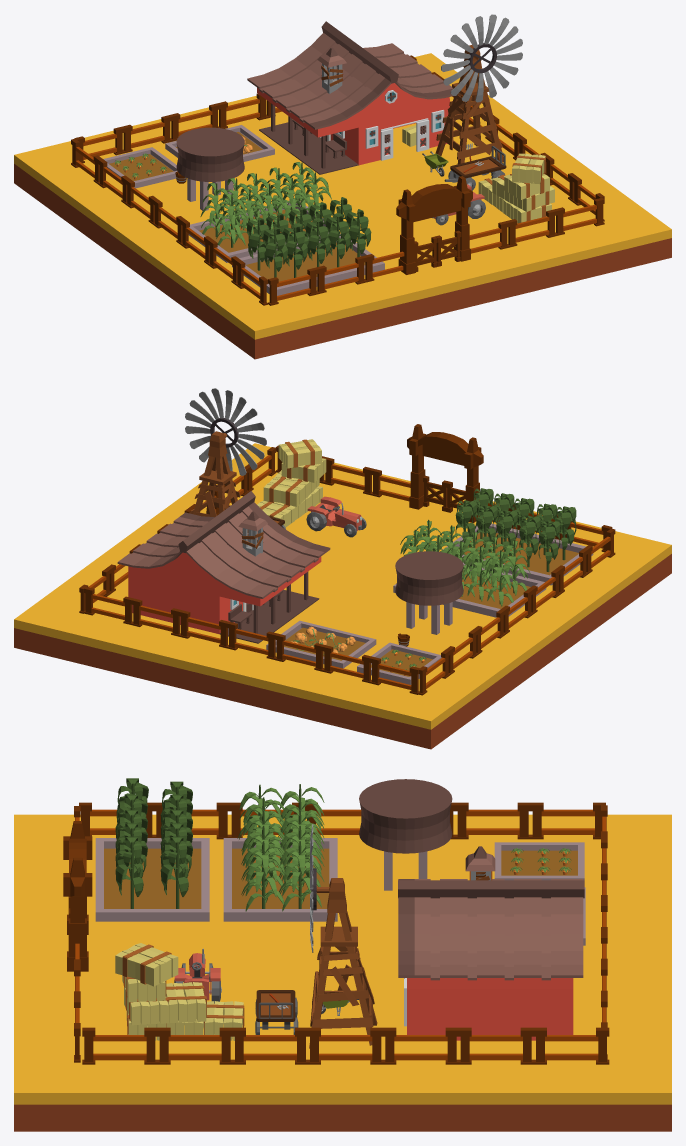
The model's file is uploads_files_2156679_farm.gltf.
3 renders of one model, top to bottom at view 1: azimuth 30°, elevation 25°; view 2: azimuth 150°, elevation 25°; view 3: azimuth 270°, elevation 25°, orthographic. The views are drawn at different scales.
Visible parts, largest first — view 1: Plane.001, farm_house, Cube.014, windmill, Cube.026, object2, Cube.039, Cube, trailer, object3, Cube.018, Cube.028 (+20 smaller); view 2: Plane.001, farm_house, Cube.014, windmill, Cube.026, object2, Cube.037, tractor, Cube.039, Cube.017, straw, Cube.038 (+16 smaller); view 3: Plane.001, farm_house, Cube.014, Cube.026, windmill, Cube.039, object2, Cube, Cube.002, Cube.038, straw, Cube.029 (+24 smaller).
Part boxes in pixels (box(x1,y1,x2,y2)): Plane.001: box(14, 53, 671, 359); farm_house: box(247, 21, 453, 174); Cube.014: box(71, 55, 604, 305); windmill: box(435, 14, 522, 164); Cube.026: box(176, 127, 244, 210); object2: box(396, 176, 472, 274); Cube.039: box(246, 242, 365, 281); Cube: box(232, 233, 384, 295); trailer: box(444, 146, 506, 190); object3: box(414, 230, 461, 271); Cube.018: box(402, 125, 549, 199); Cube.028: box(103, 147, 177, 188); Plane.001: box(14, 443, 671, 749); farm_house: box(117, 491, 330, 643); Cube.014: box(79, 445, 615, 695); windmill: box(185, 388, 266, 517); Cube.026: box(395, 551, 463, 634); object2: box(407, 424, 483, 522); Cube.037: box(266, 620, 376, 668); tractor: box(306, 496, 366, 537); Cube.039: box(459, 533, 578, 575); Cube.017: box(263, 477, 308, 506); straw: box(278, 439, 321, 468); Cube.038: box(459, 571, 530, 608); Plane.001: box(14, 814, 671, 1131); farm_house: box(398, 846, 584, 1040); Cube.014: box(74, 802, 609, 1064); Cube.026: box(359, 779, 452, 890); windmill: box(309, 824, 377, 1048); Cube.039: box(104, 848, 201, 908); object2: box(63, 821, 92, 971); Cube: box(95, 838, 209, 921); Cube.002: box(223, 838, 337, 921); Cube.038: box(232, 848, 329, 908); straw: box(115, 943, 178, 986); Cube.029: box(501, 850, 577, 875).
Size of the model in its own units: 31.66 by 13.16 by 31.66.
